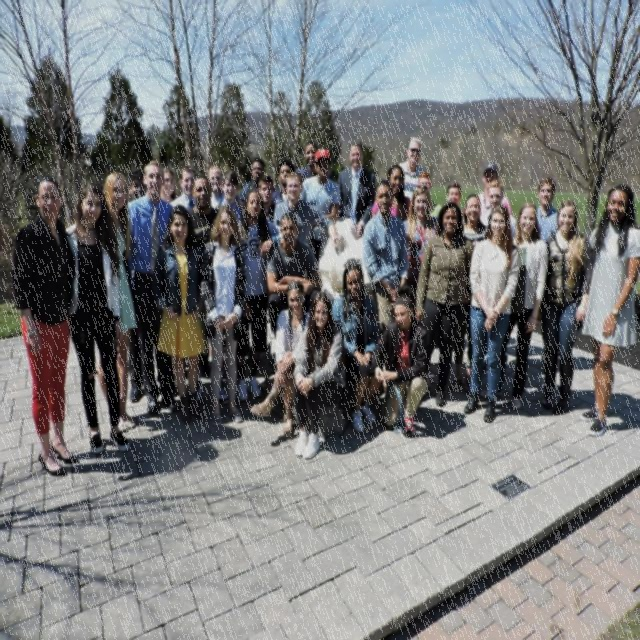pessoa: (57, 180, 137, 456), (12, 173, 82, 477), (580, 180, 640, 442), (40, 412, 244, 484), (122, 154, 178, 416), (474, 196, 538, 412), (413, 198, 478, 408), (462, 202, 522, 426), (150, 203, 208, 426), (534, 196, 593, 415), (236, 185, 292, 403), (196, 202, 249, 430), (94, 172, 138, 434), (186, 173, 231, 407), (366, 282, 432, 441), (288, 286, 346, 464), (249, 278, 311, 439), (331, 262, 382, 433), (446, 192, 489, 394), (264, 208, 324, 342), (446, 348, 570, 410), (362, 179, 408, 334), (272, 170, 345, 252), (298, 146, 342, 266), (401, 182, 438, 294), (336, 138, 377, 238), (570, 384, 640, 436), (369, 162, 412, 222), (478, 176, 518, 240), (414, 402, 467, 447), (398, 135, 430, 203), (214, 166, 246, 230), (477, 162, 512, 216), (207, 163, 245, 211), (169, 166, 198, 217), (536, 174, 558, 240), (416, 170, 443, 220), (292, 139, 320, 181), (238, 155, 265, 198), (570, 350, 618, 373), (256, 173, 277, 224), (159, 167, 178, 204), (127, 166, 148, 199), (275, 158, 295, 182), (446, 180, 462, 205)
